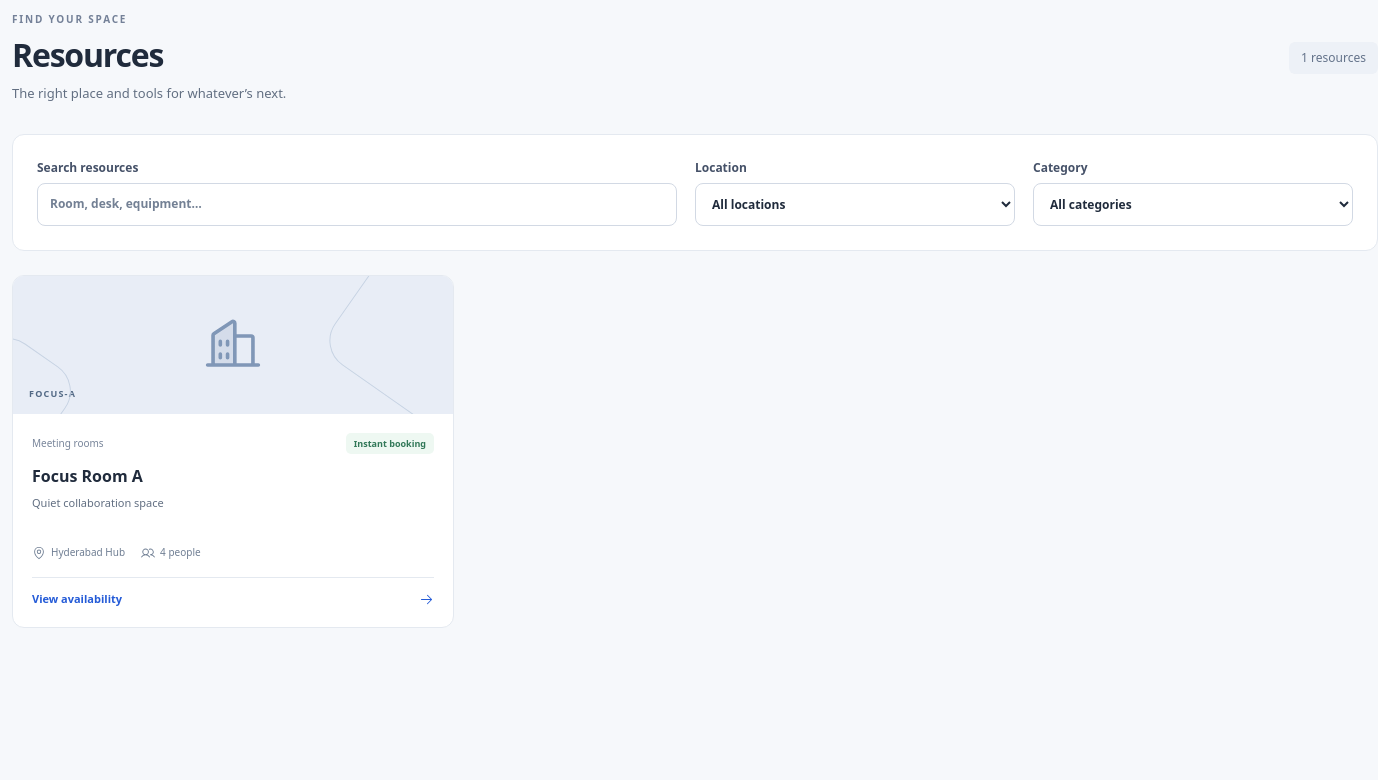
Test: ReserveOps user workflows › filters resource catalog through real query parameters and renders an empty state
Expected: the link "Focus Room A" is shown, x1=32 y1=465 x2=143 y2=487
Type "Missing" into the search field labelled "Search resources" at (357, 204), box x1=37 y1=183 x2=677 y2=226
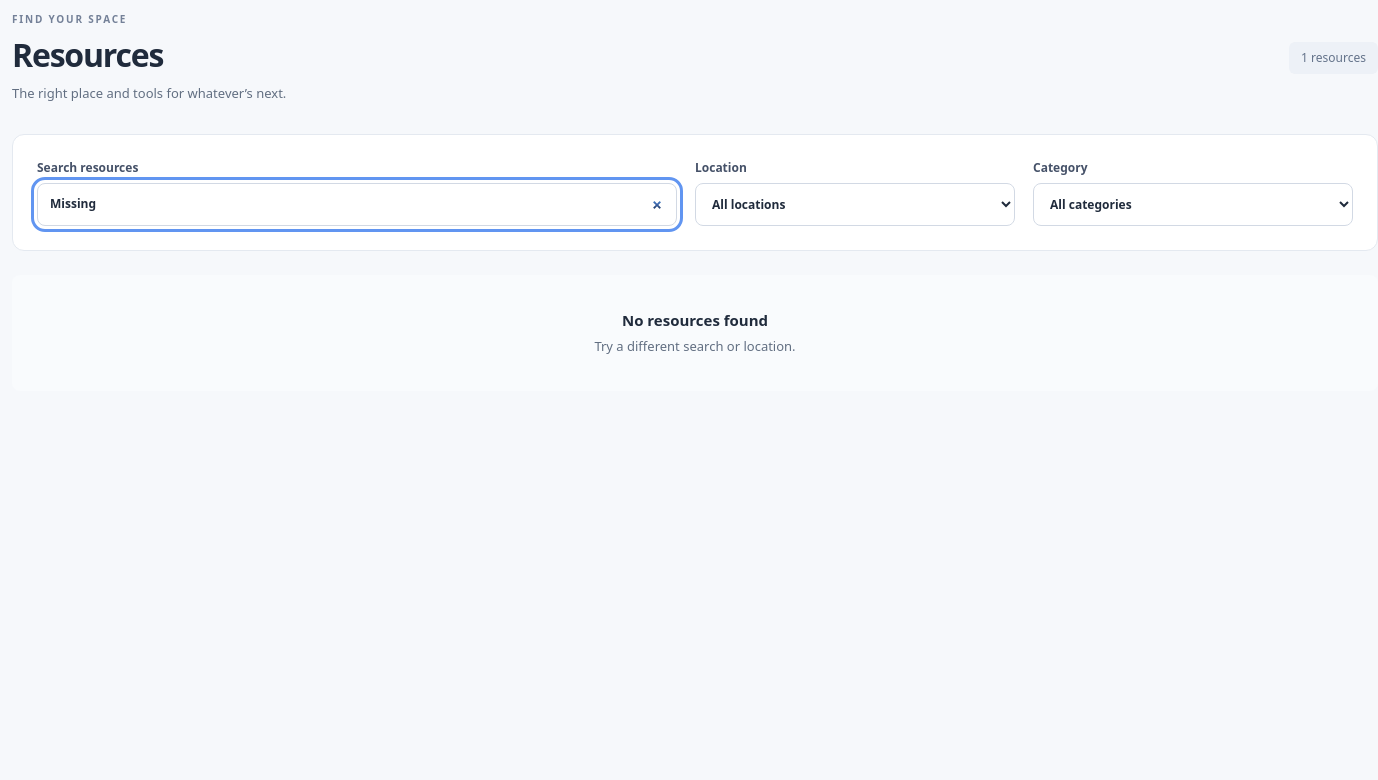
Expected: the heading "No resources found" is shown, x1=622 y1=310 x2=768 y2=330
